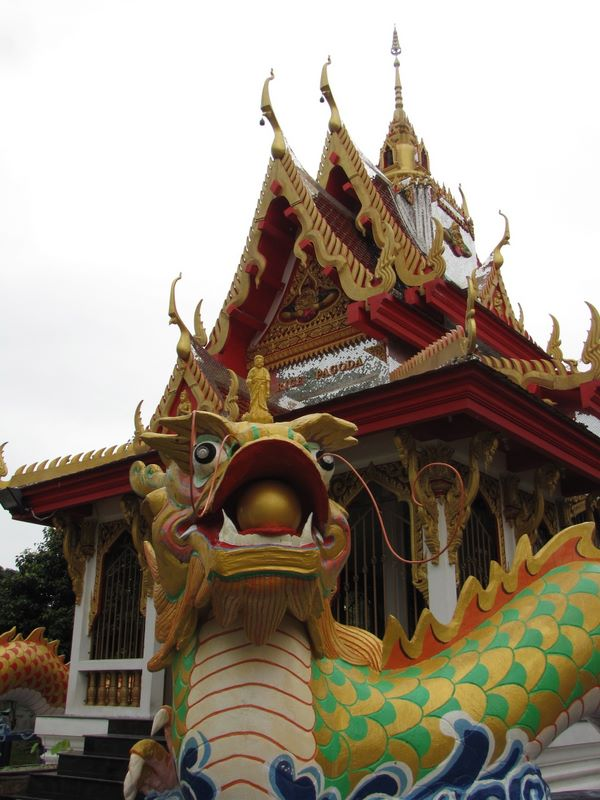Buddhist Temple: (84, 52, 547, 719)
